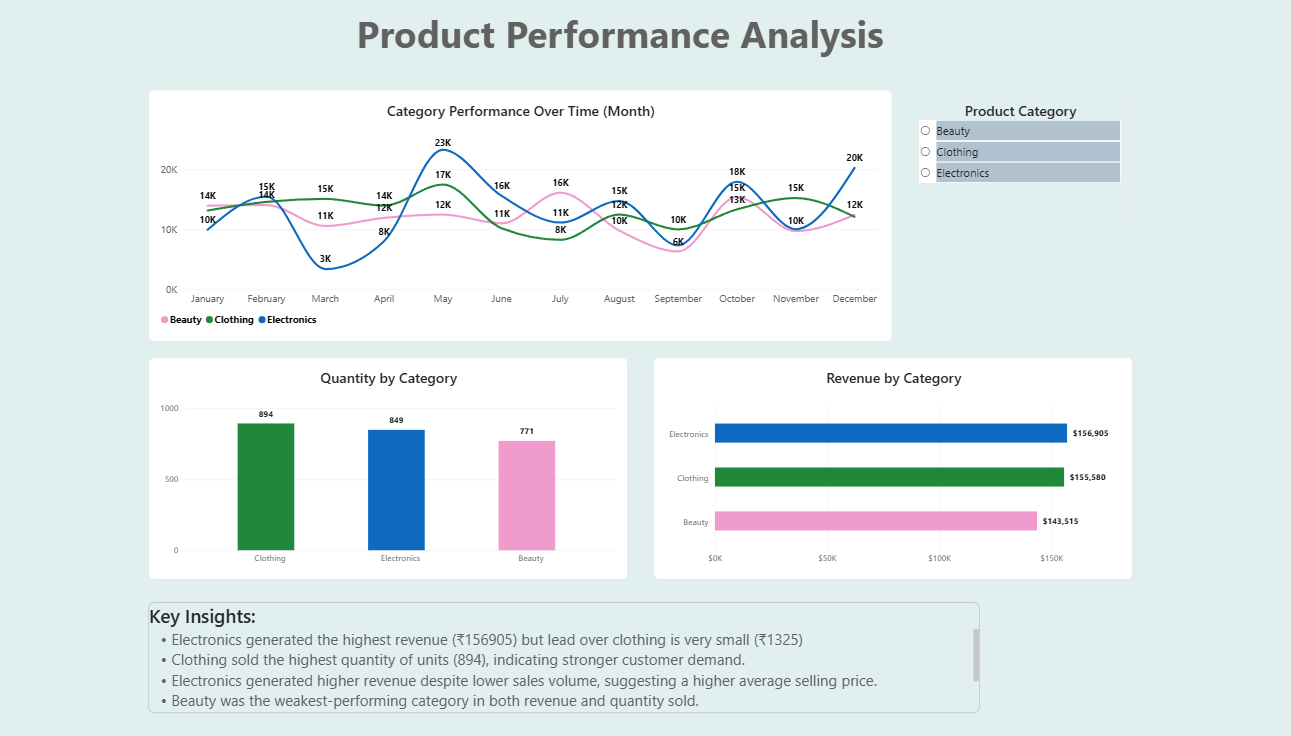

Layout of this report page (visuals, bound fields, positions):
{"tool":"powerbi","page":{"name":"Product Analysis","canvas":[1920,1080],"ordinal":1},"visuals":[{"type":"clusteredColumnChart","title":"Quantity by Category","fields":{"Category":["retail_sales_dataset.Product Category"],"Y":["retail_sales_dataset.Total Quantity"]},"box":[240,537.5,685,317.5],"z":0},{"type":"lineChart","title":"Category Performance Over Time (Month)","fields":{"Category":["retail_sales_dataset.Date.Variation.Date Hierarchy.Month"],"Series":["retail_sales_dataset.Product Category"],"Y":["retail_sales_dataset.Total Revenue"]},"box":[240,155,1062.5,360],"z":1},{"type":"textbox","title":"Key Insights:","box":[239.6,887.5,1187.5,158.3],"z":2},{"type":"clusteredBarChart","title":"Revenue by Category","fields":{"Category":["retail_sales_dataset.Product Category"],"Y":["retail_sales_dataset.Total Revenue"]},"box":[960,537.5,685,317.5],"z":3},{"type":"listSlicer","fields":{"Values":["retail_sales_dataset.Product Category"]},"box":[1323.3,154.6,322.1,200.6],"z":4},{"type":"textbox","box":[475,37.5,952.5,87.5],"z":5}]}

Visuals, with their boxes in screenshot pixels (x1, y1, x2, y2), scaled from the page's 1920x1080 canvas onto the 1291x736 screenshot:
"Quantity by Category" clusteredColumnChart: {"left": 161, "top": 366, "right": 622, "bottom": 583}
"Category Performance Over Time (Month)" lineChart: {"left": 161, "top": 106, "right": 876, "bottom": 351}
"Key Insights:" textbox: {"left": 161, "top": 605, "right": 960, "bottom": 713}
"Revenue by Category" clusteredBarChart: {"left": 646, "top": 366, "right": 1106, "bottom": 583}
listSlicer - retail_sales_dataset.Product Category: {"left": 890, "top": 105, "right": 1106, "bottom": 242}
textbox: {"left": 319, "top": 26, "right": 960, "bottom": 85}
